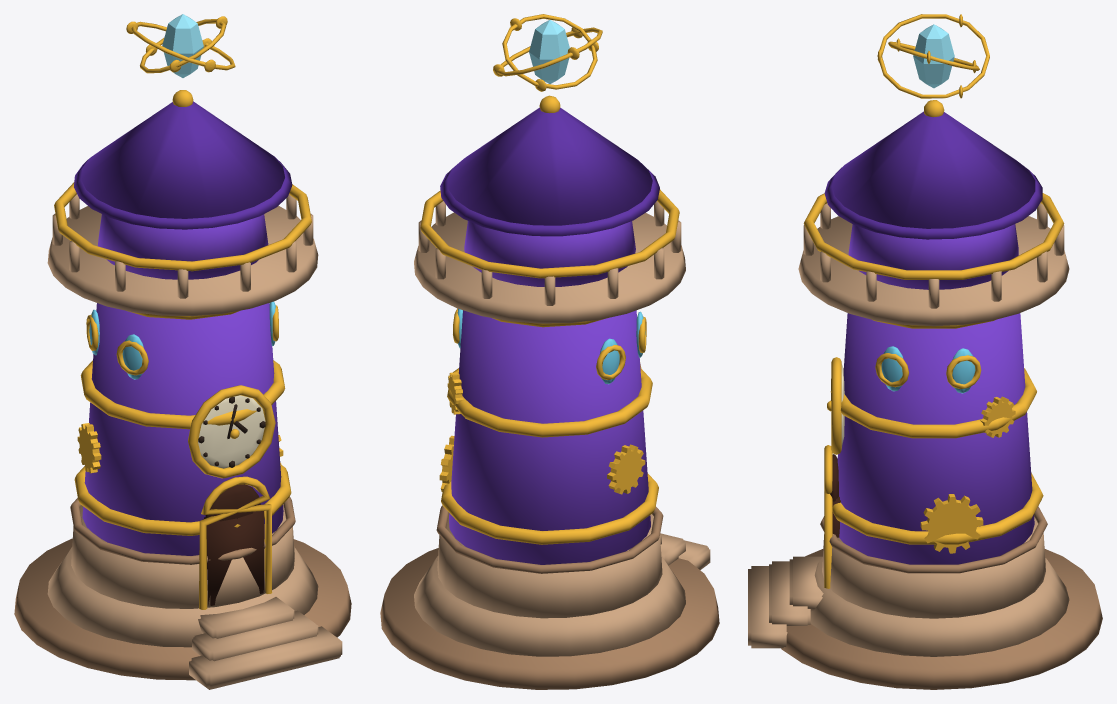
Rendered from torre-numeros.glb.
3 renders of one model, left to right at view 1: azimuth 30°, elevation 25°; view 2: azimuth 150°, elevation 25°; view 3: azimuth 270°, elevation 25°, orthographic.
Parts seen in each view (by area): view 1: TorreNumeros; view 2: TorreNumeros; view 3: TorreNumeros.
Boxes of the visible parts, left/top/right/bottom form: TorreNumeros: left=14, top=14, right=351, bottom=689; TorreNumeros: left=380, top=14, right=719, bottom=689; TorreNumeros: left=748, top=14, right=1102, bottom=689.
Bounding box in the file's own units: 3.24 × 6.35 × 3.4.
